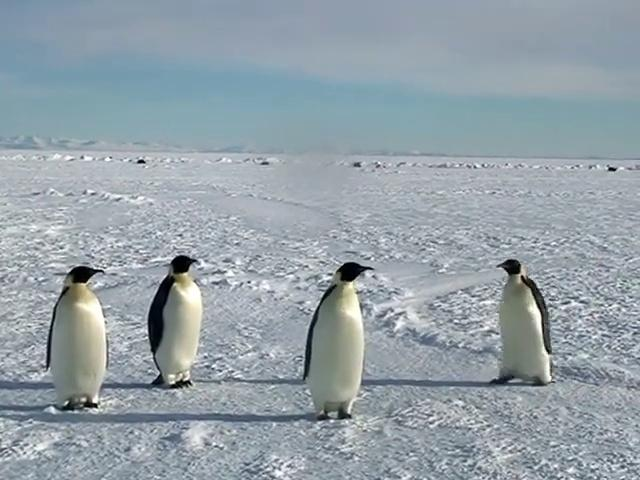animal: (305, 264, 374, 420)
